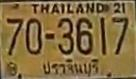0: (25, 17, 41, 54)
1: (100, 17, 105, 54)
3: (57, 17, 73, 54)
6: (75, 17, 92, 54)
7: (111, 16, 128, 54), (6, 17, 22, 55)
PRI: (42, 57, 102, 78)
